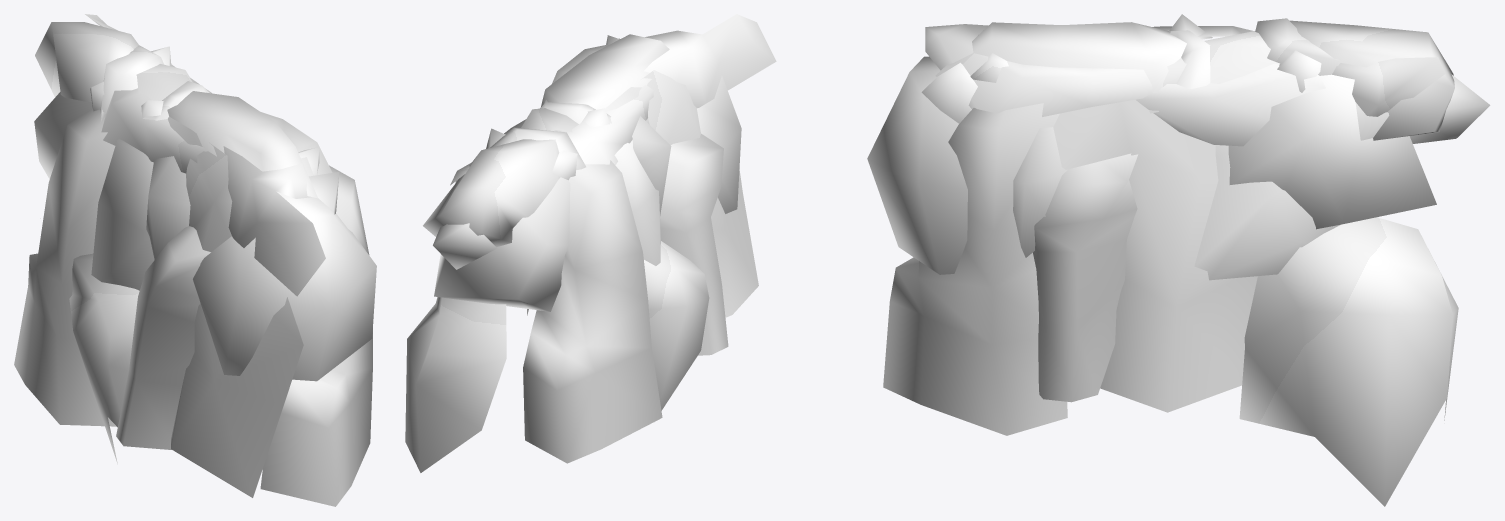
File: narrow_straight_a.glb
3 renders of one model, left to right at view 1: azimuth 30°, elevation 25°; view 2: azimuth 150°, elevation 25°; view 3: azimuth 270°, elevation 25°, orthographic. The views are drawn at different scales.
Parts seen in each view (by area): view 1: TREES; view 2: TREES; view 3: TREES.
Part boxes in pixels (x1,y1,x2,y2): TREES: (14, 14, 376, 506); TREES: (405, 14, 776, 472); TREES: (867, 14, 1490, 506).
Size of the model in its own units: 3.73 by 6.42 by 9.06.
Materials: 1 (1 with a texture image).
